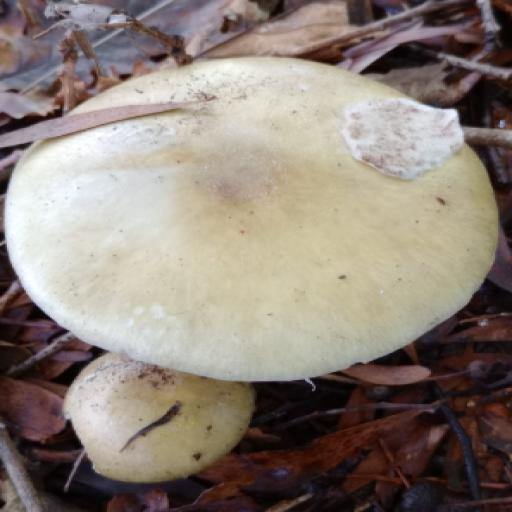mushroom: (6, 58, 498, 381)
